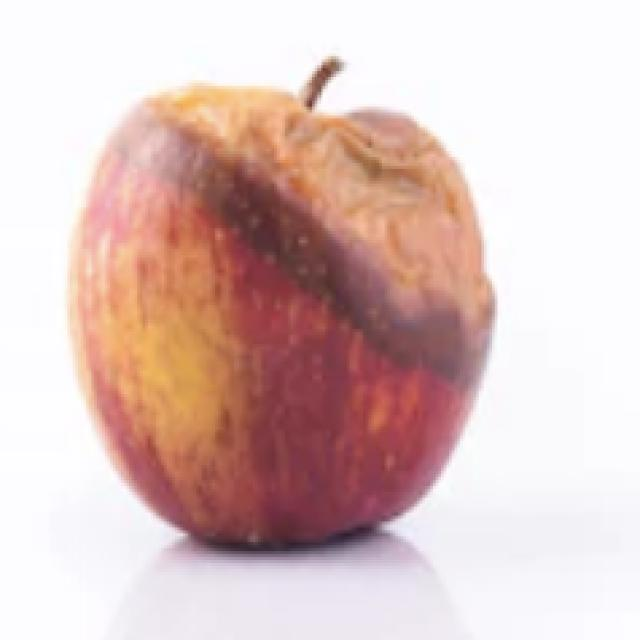rotten_apple: (66, 67, 497, 556)
